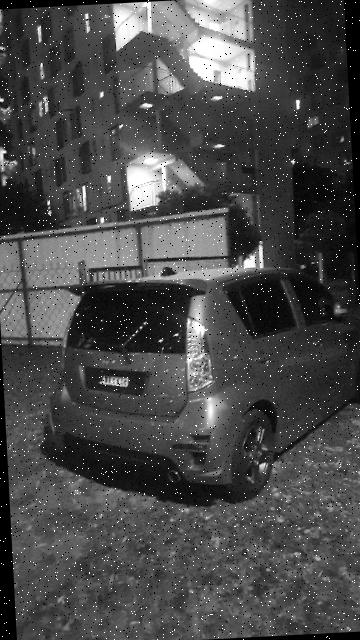License_Plate: (84, 363, 148, 400)
car: (40, 261, 360, 497)
